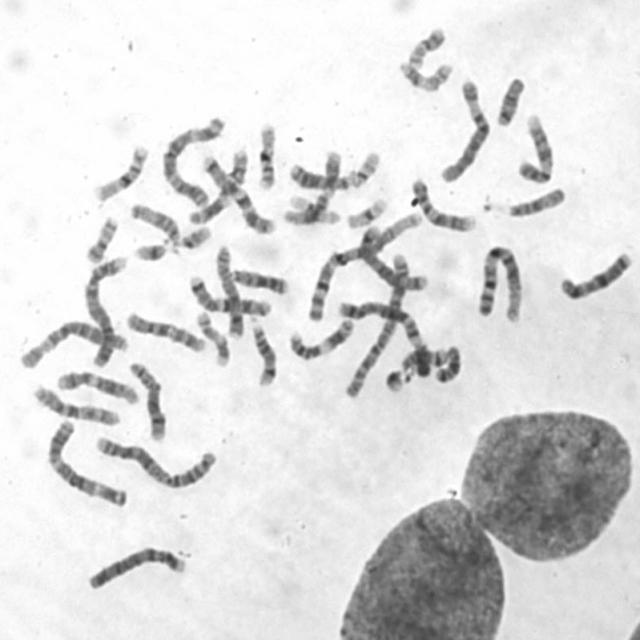A1: (302, 204, 425, 322), (471, 238, 526, 324)
A2: (340, 246, 414, 399), (89, 428, 219, 489)
A3: (42, 413, 132, 508), (155, 110, 227, 208)
B4: (78, 248, 130, 367), (83, 540, 190, 592)
B5: (355, 218, 430, 292), (183, 268, 273, 318)
C10: (26, 378, 122, 428), (121, 305, 208, 355)
C11: (183, 144, 250, 226), (284, 312, 356, 361)
C12: (278, 145, 344, 226), (51, 364, 141, 405)
C6: (15, 312, 128, 371), (434, 72, 493, 184)
C7: (196, 148, 277, 236), (183, 268, 273, 318)
C8: (123, 355, 169, 443), (210, 240, 247, 340)
C9: (406, 172, 478, 234), (514, 107, 558, 185)
D13: (285, 157, 358, 191), (225, 262, 290, 296)
D14: (244, 314, 279, 388), (396, 340, 451, 373)
D15: (126, 198, 183, 248), (500, 180, 567, 219)
E16: (89, 138, 151, 202), (250, 116, 280, 191)
E17: (192, 305, 232, 368), (393, 54, 454, 94)
E18: (491, 70, 528, 128), (428, 340, 464, 385)
F19: (283, 188, 340, 226), (341, 192, 389, 230)
F20: (80, 209, 121, 264), (402, 20, 448, 69)
G21: (129, 235, 171, 262), (381, 362, 410, 394)
G22: (345, 144, 382, 188), (174, 220, 212, 250)
X: (554, 245, 635, 302)
